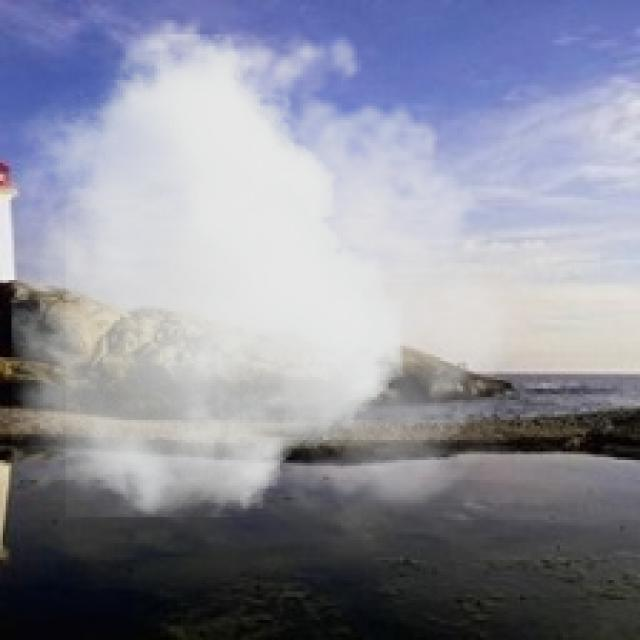smoke: (11, 3, 543, 517)
